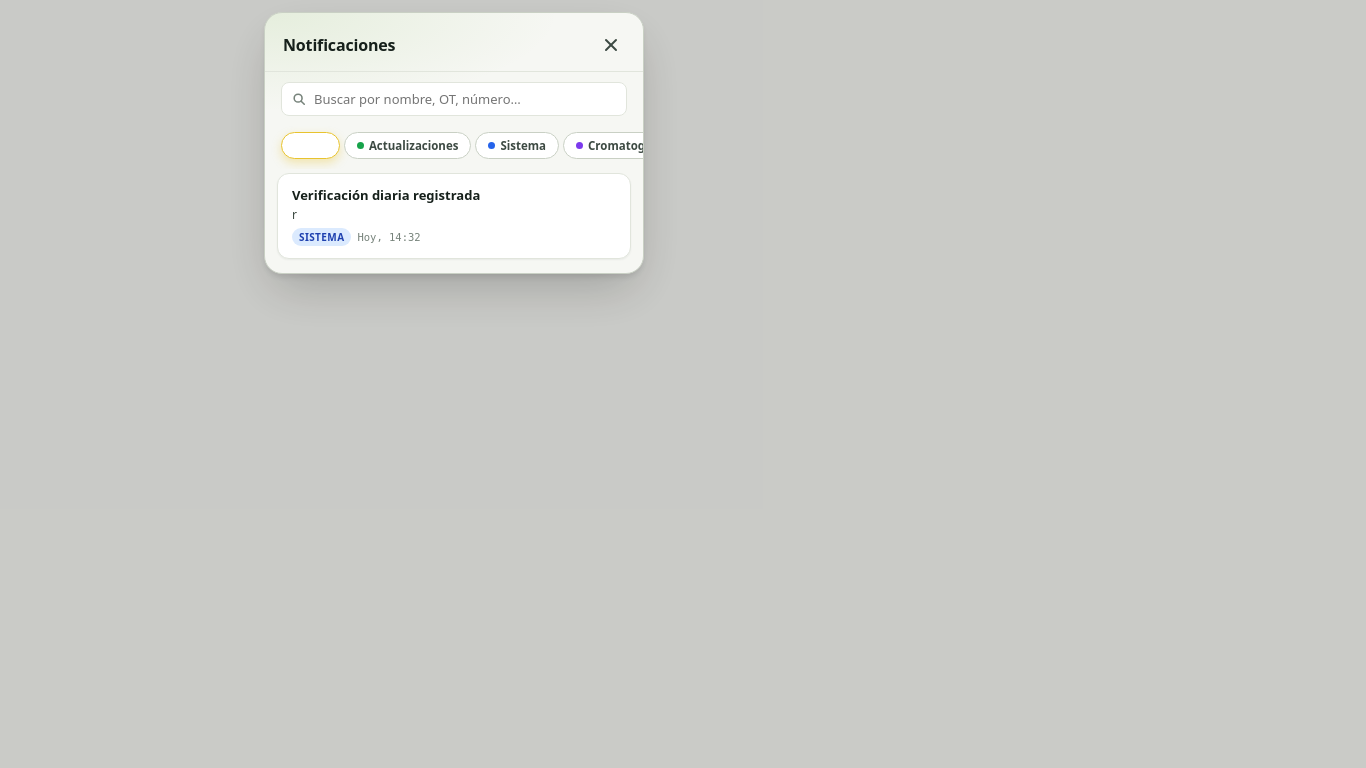
BandejaNotificaciones › busca en el servidor lo escrito y resalta lo encontrado
Expected: the text "Verificación diaria registrada" is shown, [292,186,480,204]
Type "nuble 0457" into the search field named "Buscar notificaciones". click: (454, 99)
box: [281,82,627,116]
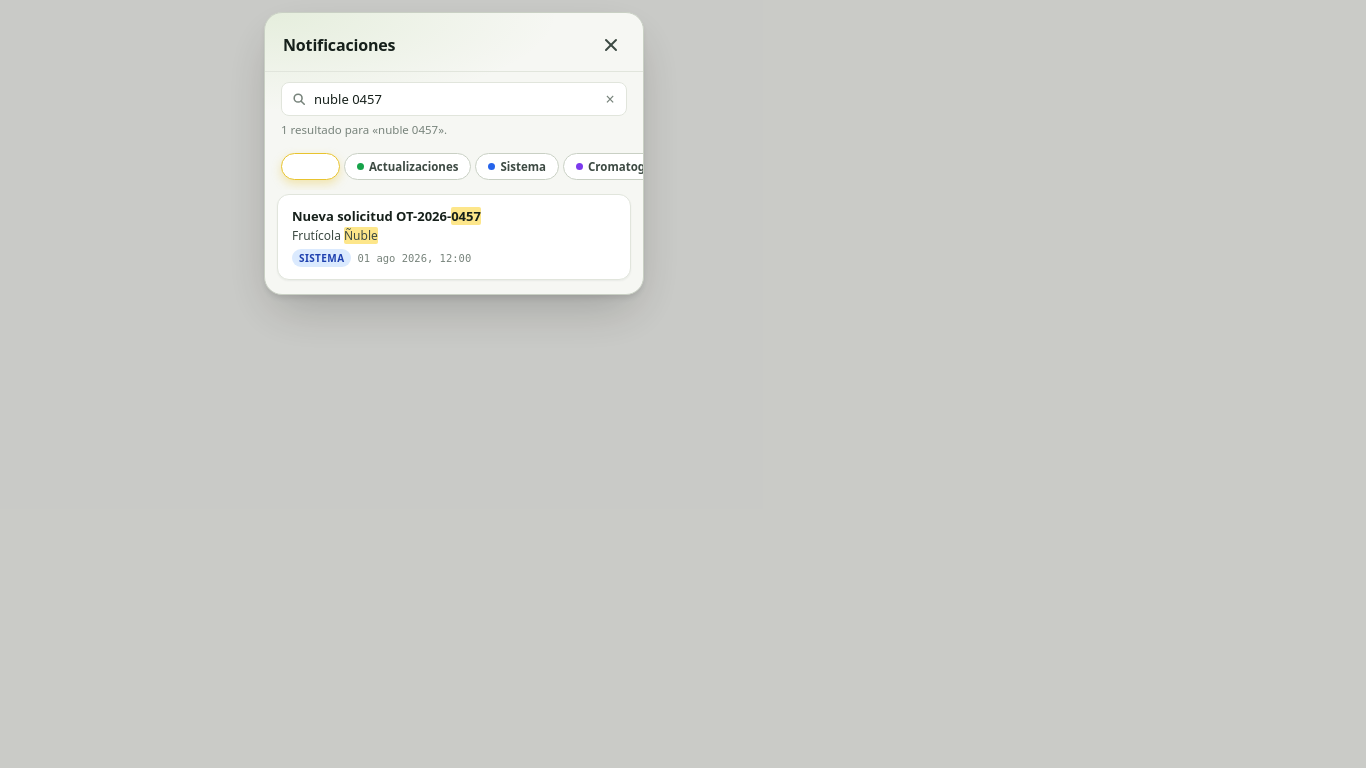
Expected: the text "1 resultado para «nuble 0457»." is shown, [281,122,447,137]
Expected: the button "Verificación diaria registrada" is gone
